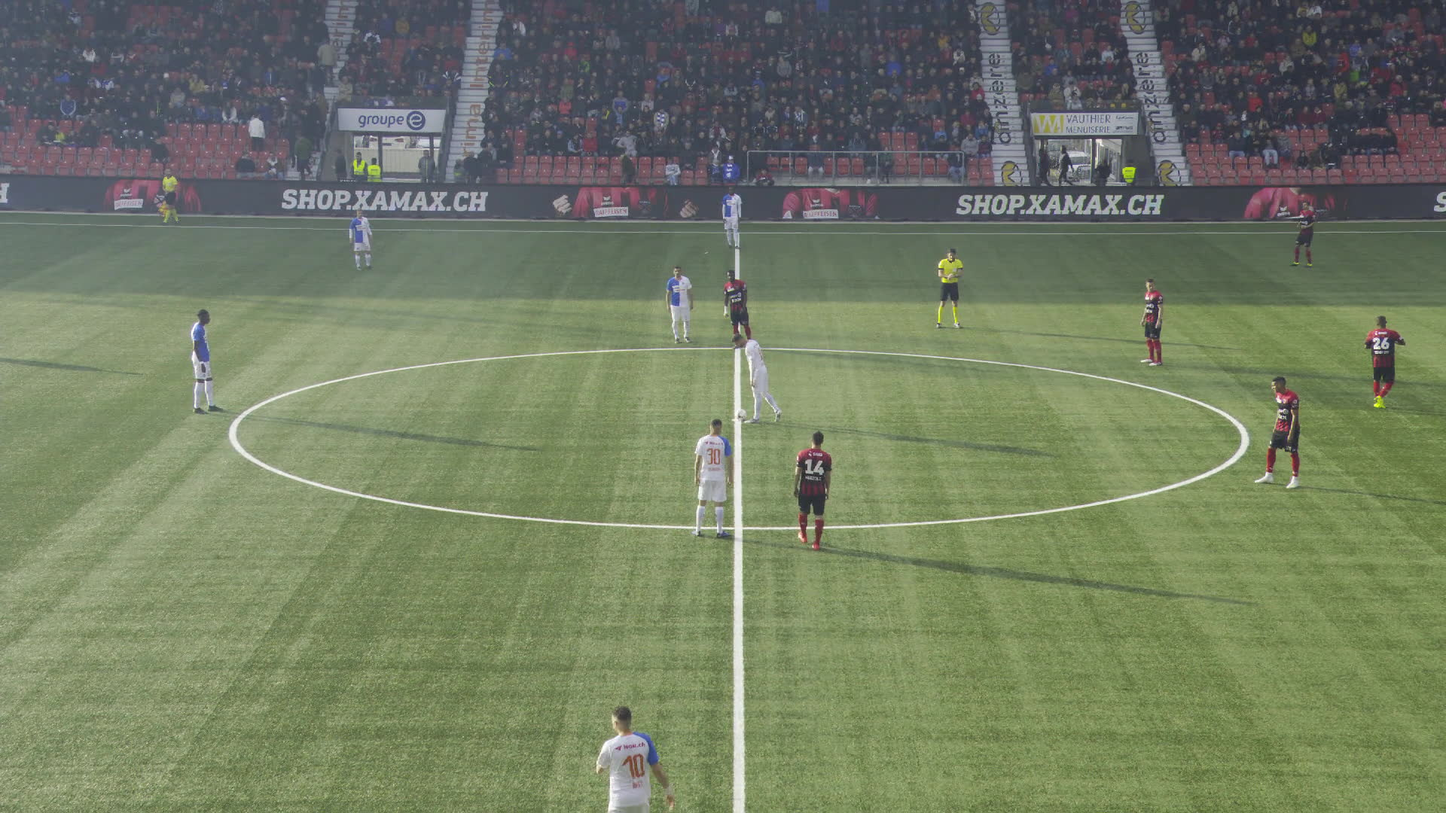ball: (734, 409, 746, 421)
player: (595, 705, 676, 811), (1254, 376, 1300, 489), (691, 419, 731, 537), (792, 430, 831, 549), (731, 333, 782, 422), (1363, 315, 1405, 410), (190, 309, 224, 413), (722, 269, 751, 348), (666, 266, 693, 343), (1139, 279, 1162, 366), (1291, 199, 1316, 267), (348, 208, 372, 270), (721, 184, 741, 248)
referee: (935, 248, 963, 328), (161, 166, 178, 224)
